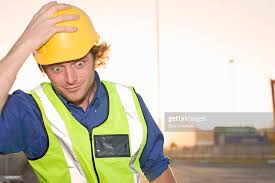Person_wearing_helmet: (27, 0, 114, 75)
